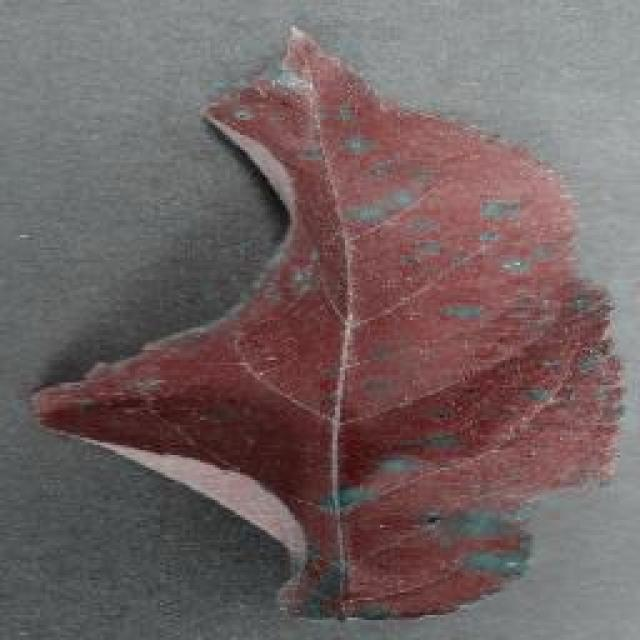apple rust disease: (27, 22, 625, 620)
